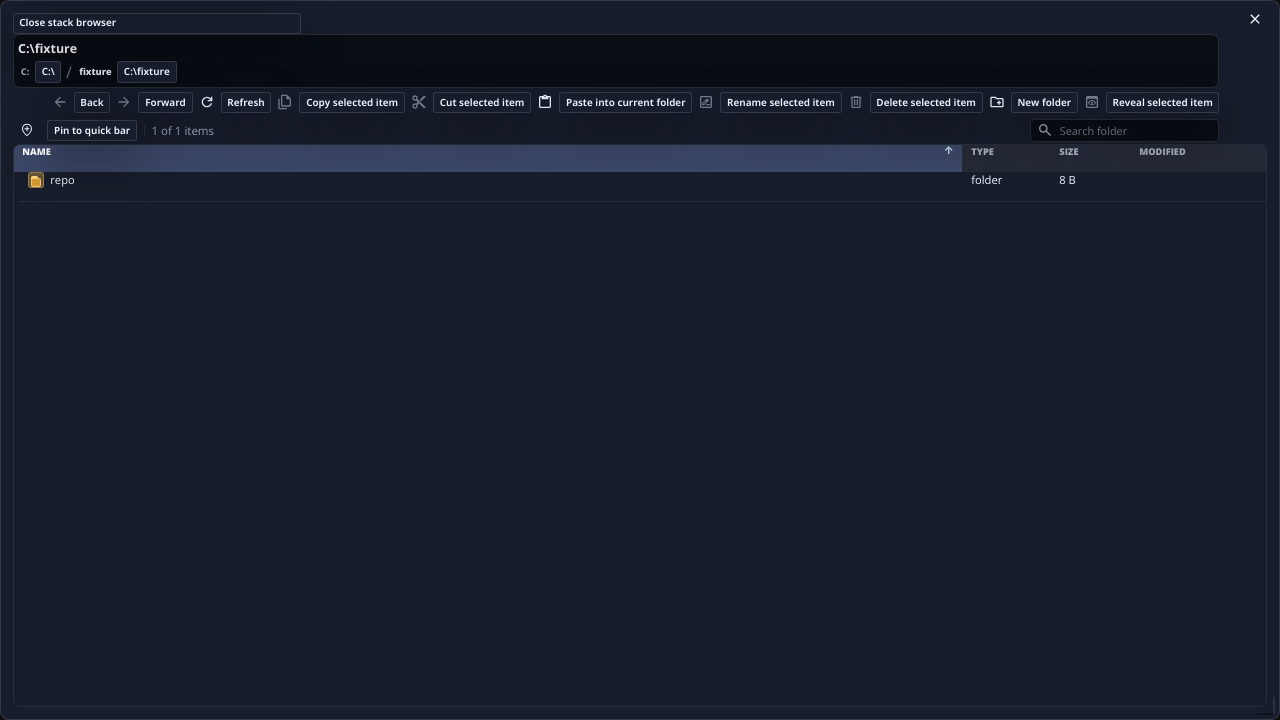
Test case: folder context menu Back dismisses menu before canceling underlying inline input
Double-click the text "repo" at (62, 180), box [50,172,75,188]
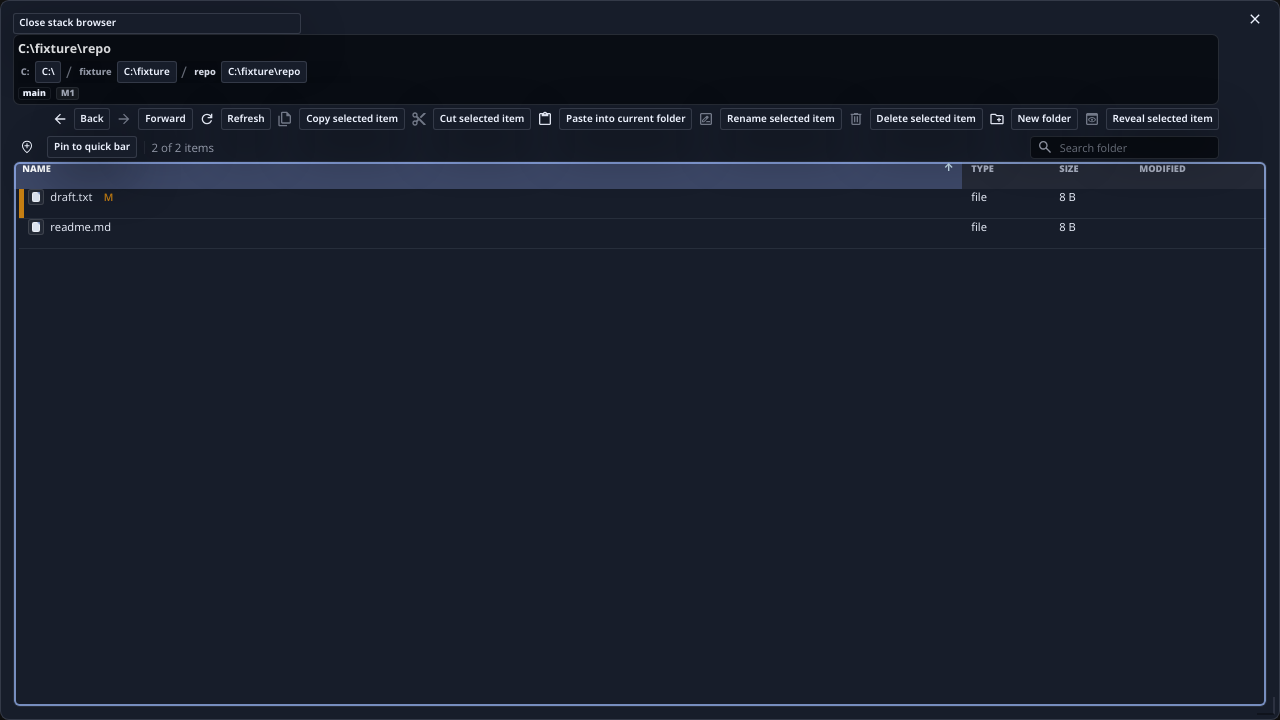
Check: the text "draft.txt" is shown, box [50,189,92,204]
Click the button named "New folder" at (997, 119), box [983,105,1011,133]
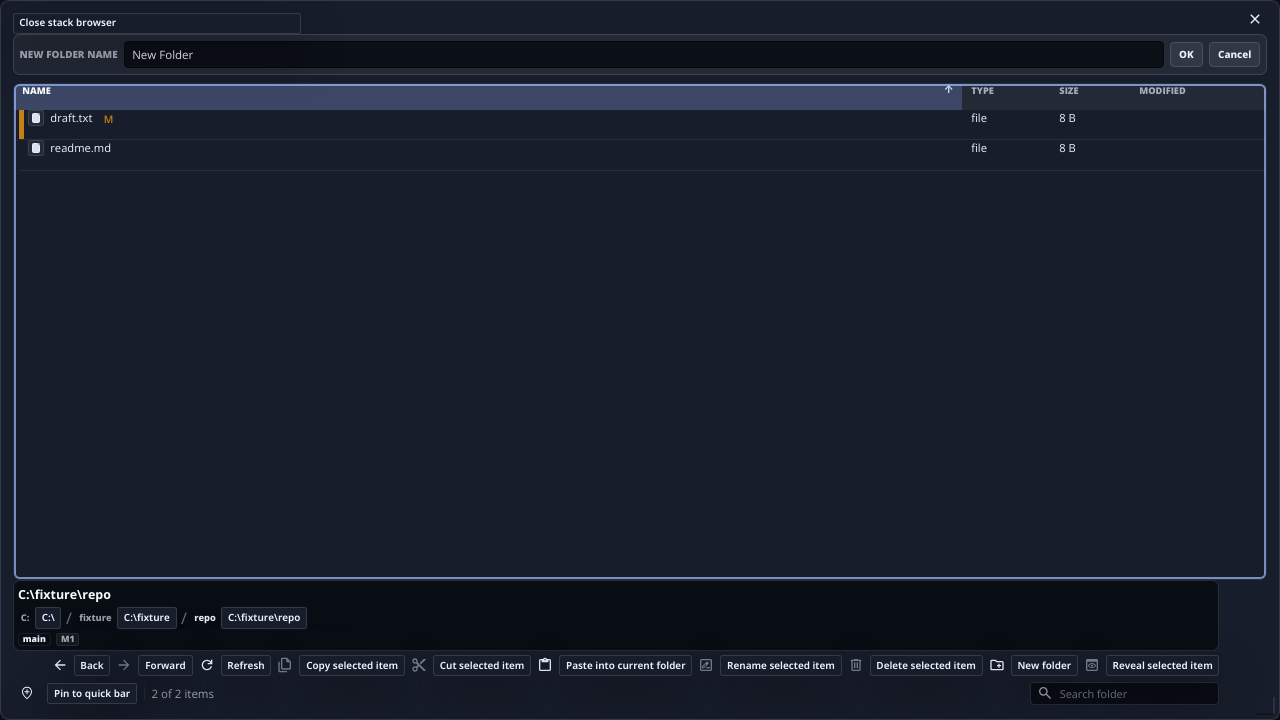
Right-click the element "stack browser" at (640, 360), box [0,0,1279,719]
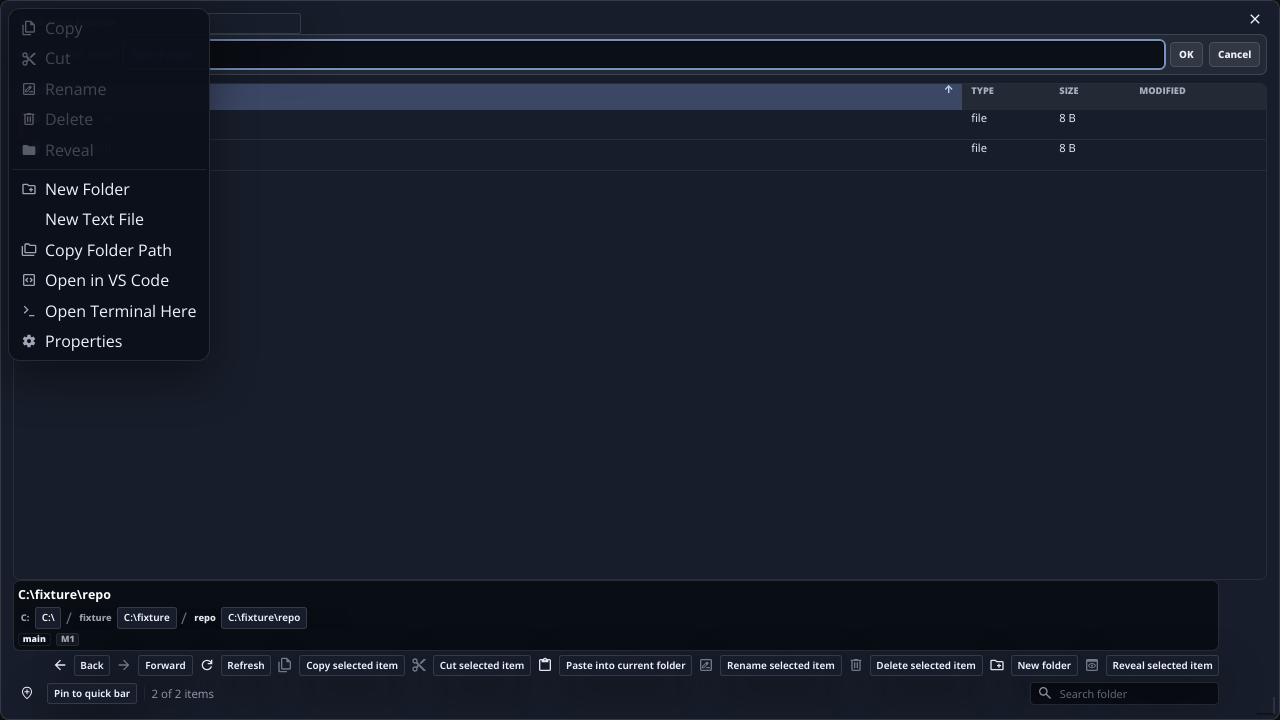
Check: the menu is shown
Press the mouse on the menu at (109, 185), box [8,8,210,361]
Check: the menu is shown
Press the mouse on the menu at (109, 185), box [8,8,210,361]
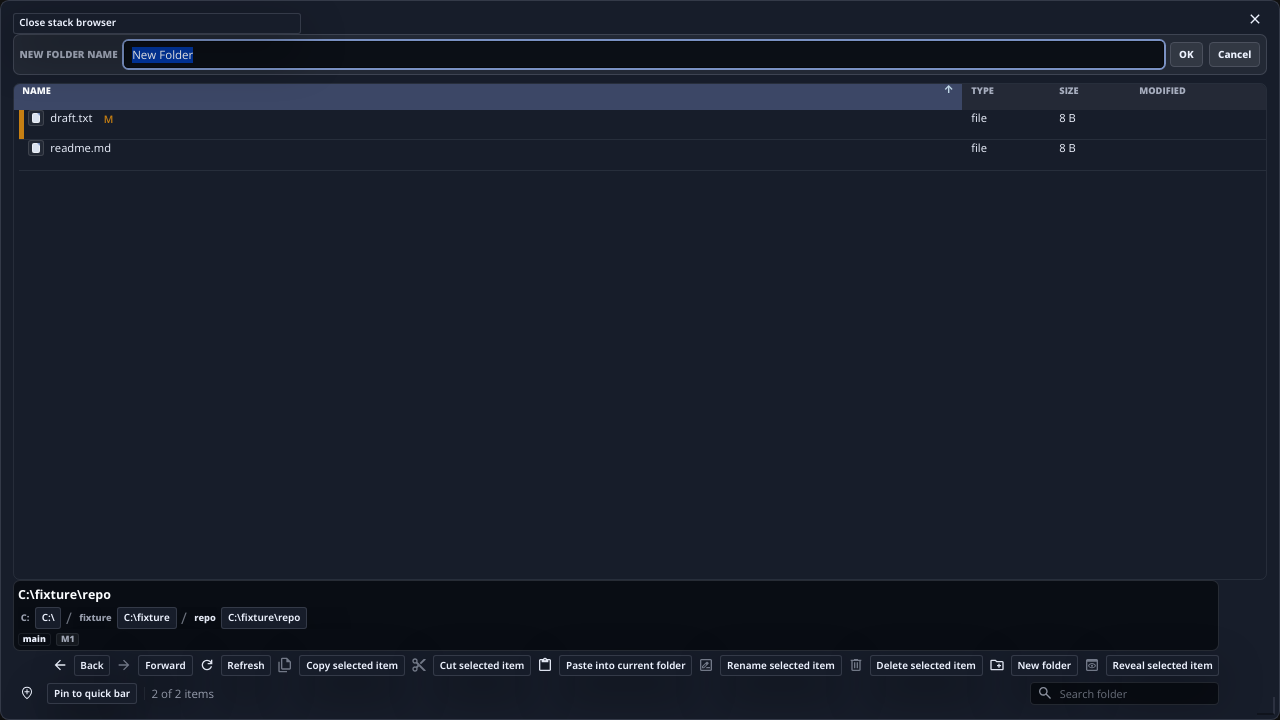
Check: the field labelled "New folder name" is shown, box [124,41,1164,68]
Check: the menu is gone
